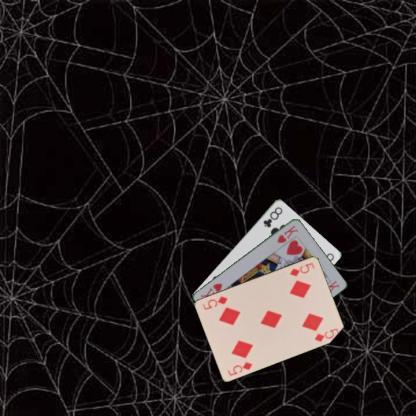5d: (287, 260, 316, 278), (225, 359, 254, 377)
8c: (260, 204, 284, 229)
Kh: (274, 222, 300, 244)
